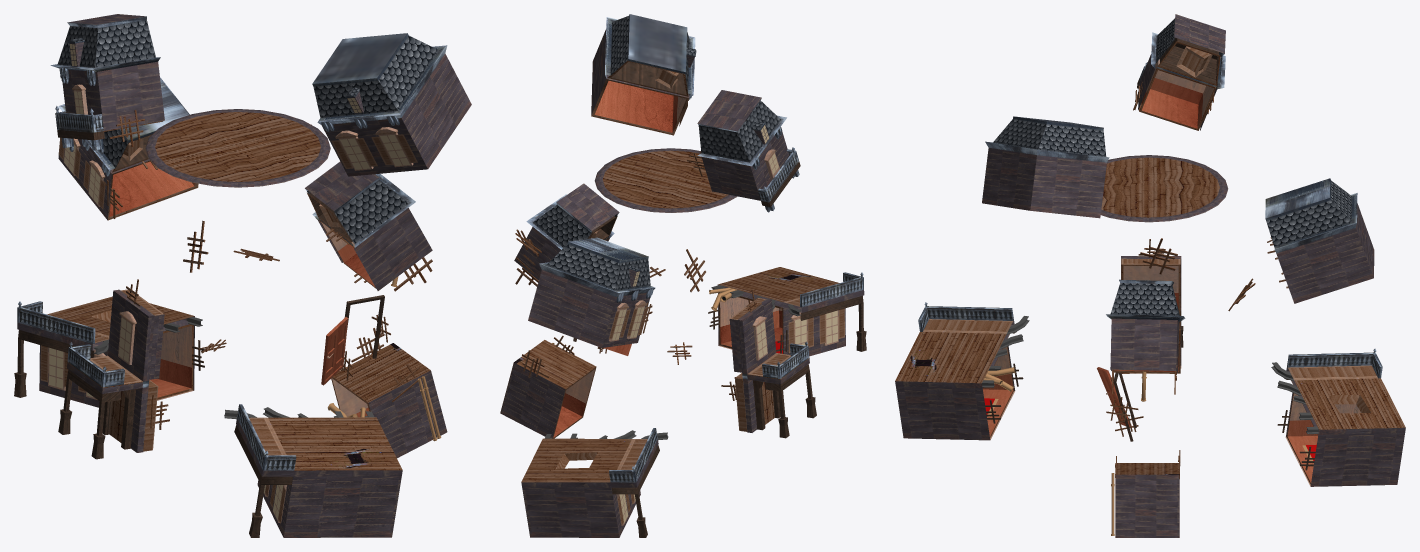
Rendered from Spooky_Tower_Floating_House_01_Art.fbx.
3 renders of one model, left to right at view 1: azimuth 30°, elevation 25°; view 2: azimuth 150°, elevation 25°; view 3: azimuth 270°, elevation 25°, orthographic. The views are drawn at different scales.
Visible parts, largest first — view 1: Spooky_Tower_Floating_House_01_Art; view 2: Spooky_Tower_Floating_House_01_Art; view 3: Spooky_Tower_Floating_House_01_Art.
Part boxes in pixels (bbox=[...]): Spooky_Tower_Floating_House_01_Art: bbox=[14, 14, 471, 537]; Spooky_Tower_Floating_House_01_Art: bbox=[500, 14, 866, 537]; Spooky_Tower_Floating_House_01_Art: bbox=[895, 14, 1405, 537].
Bounding box in the file's own units: 1570 × 2046 × 2325.
